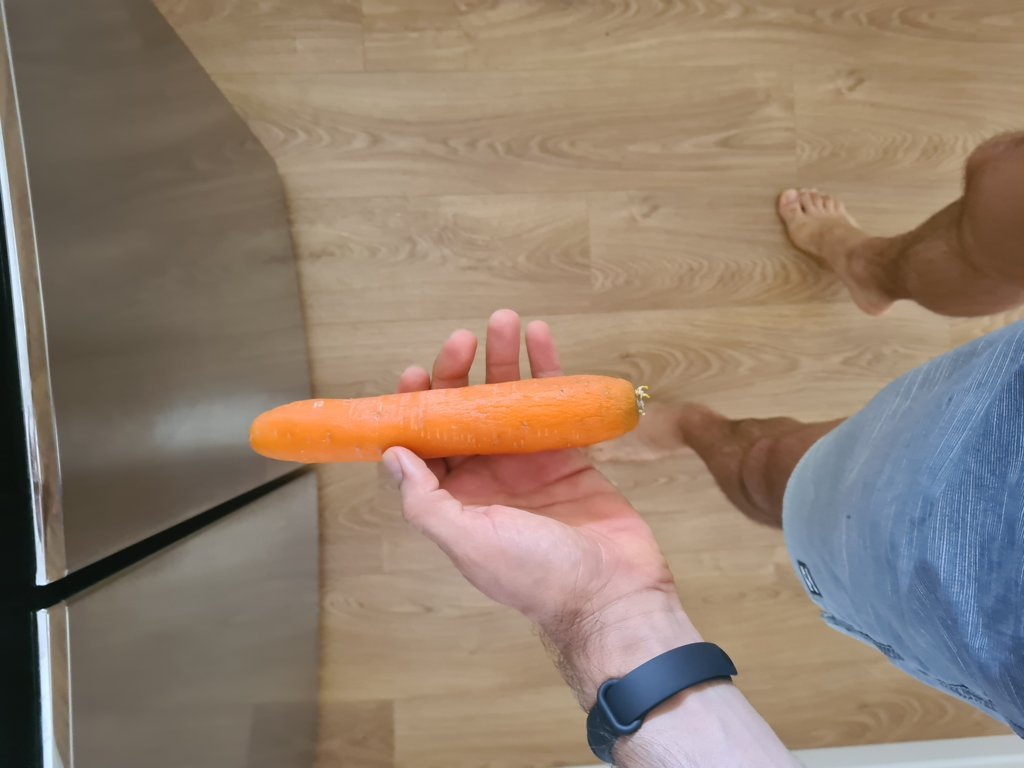carrot: (258, 374, 643, 468)
